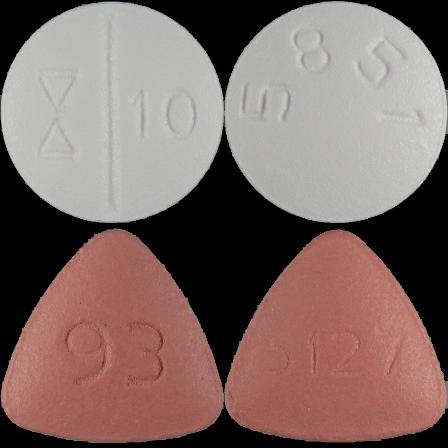54458-892: (0, 0, 224, 224)
